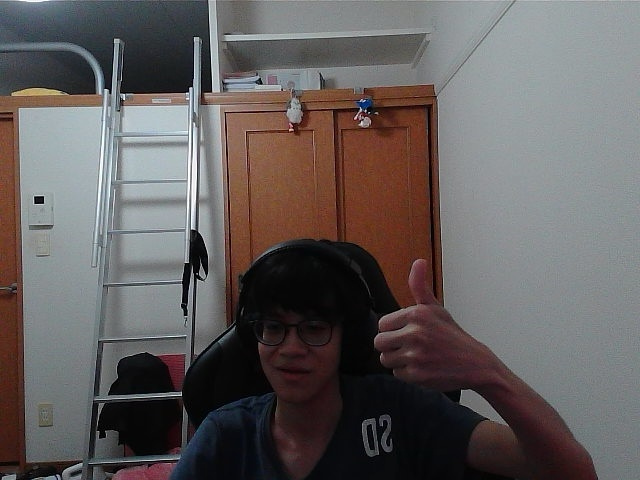thumb_up: (381, 265, 473, 374)
